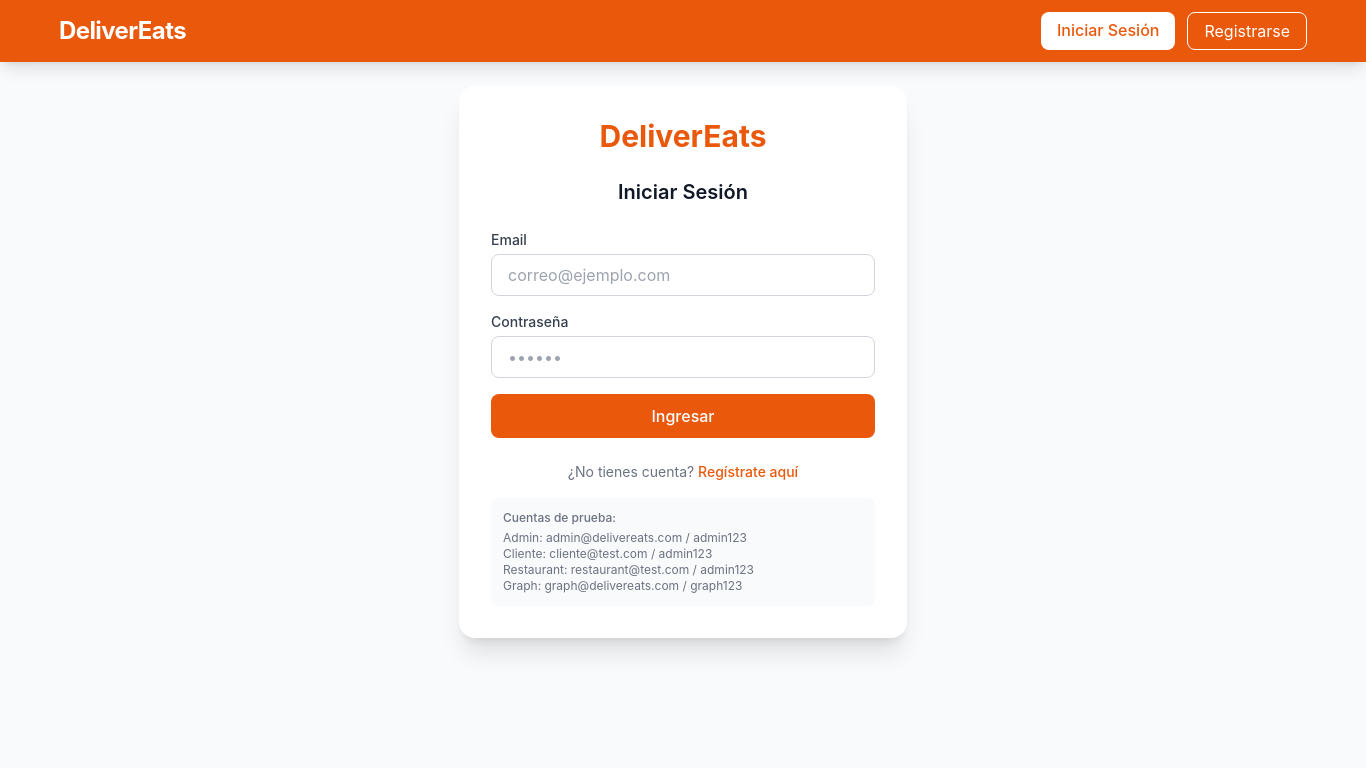
Test case: E2E UI - Autenticacion y roles › login cliente con inicio de compra
Type "cliente@test.com" into the field with placeholder "correo@ejemplo.com" at (683, 275), box x1=491 y1=254 x2=875 y2=296
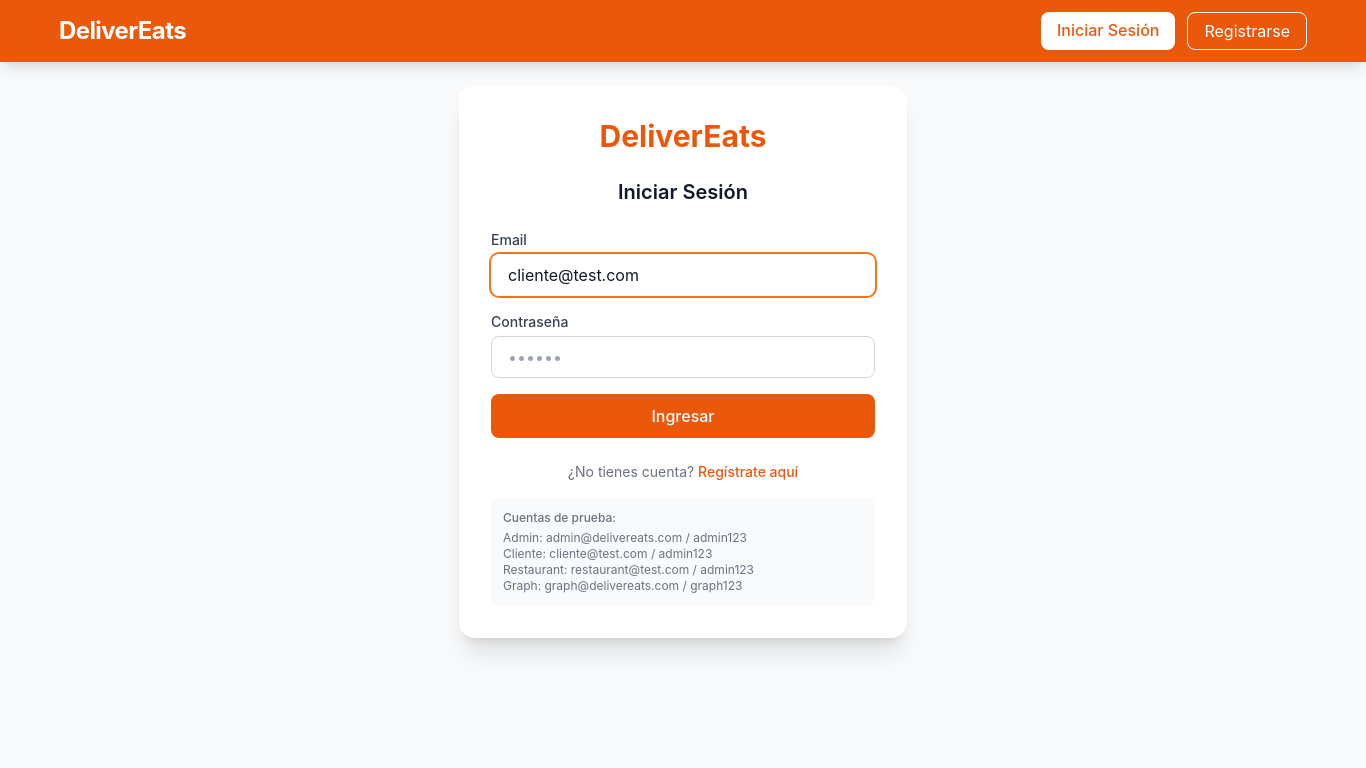
Type "admin123" into the password field with placeholder "••••••" at (683, 357), box x1=491 y1=336 x2=875 y2=378
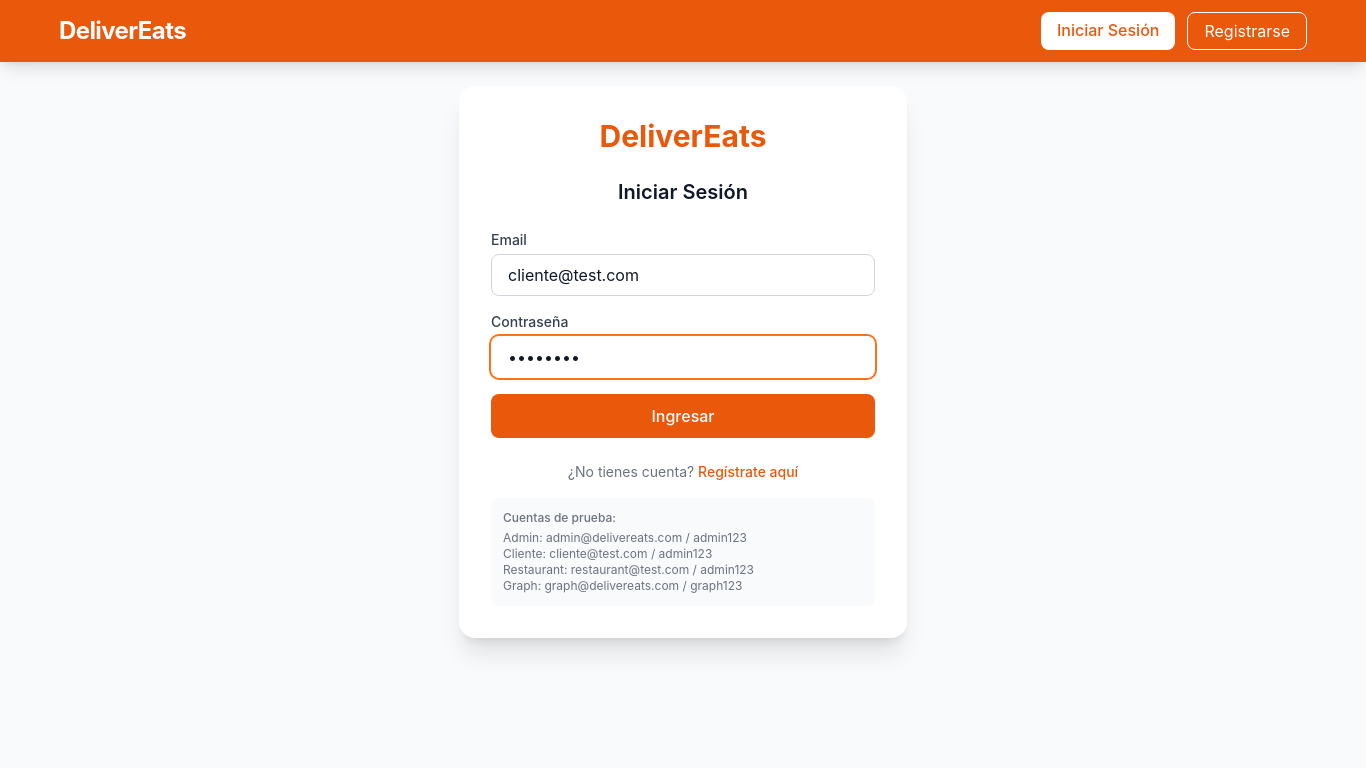
Click the button "Ingresar" at (683, 416), box x1=491 y1=394 x2=875 y2=438
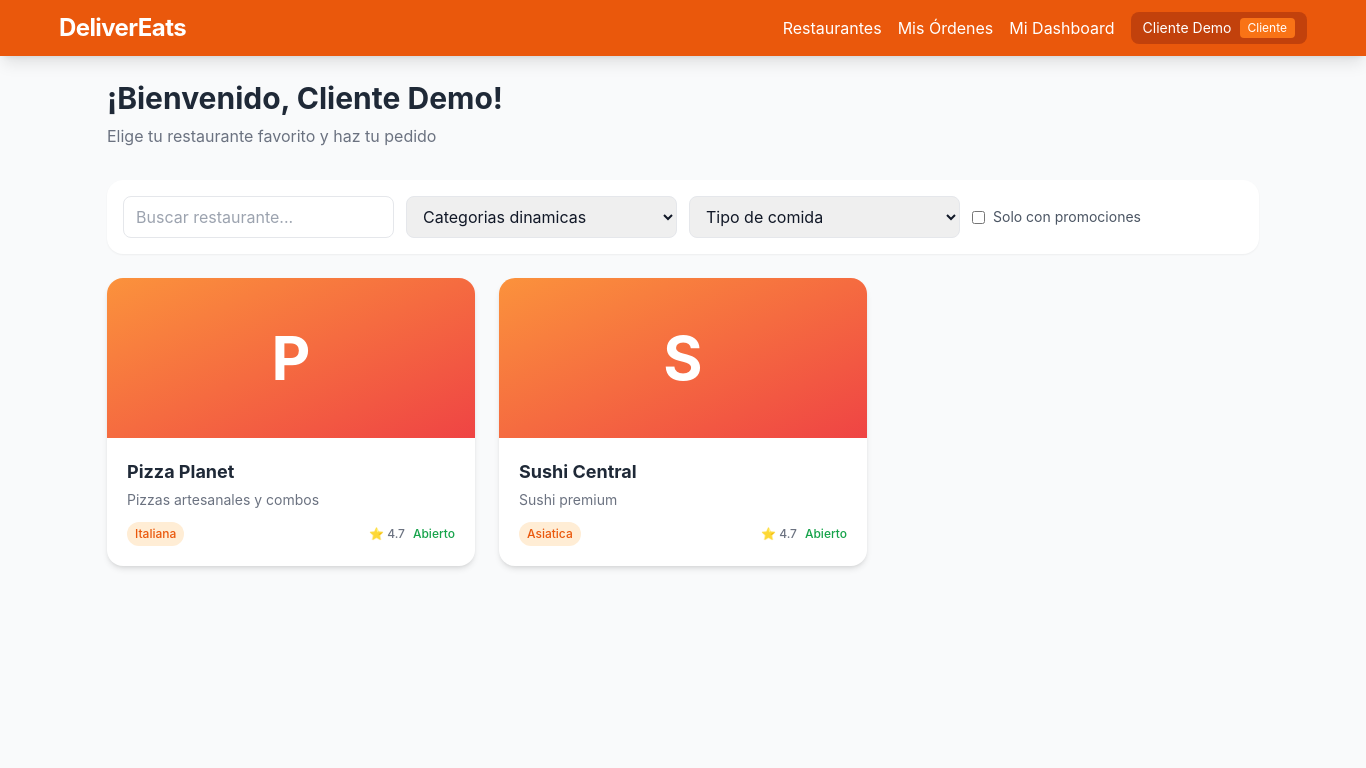
Result: the link "Restaurantes" is shown at x1=783 y1=16 x2=882 y2=40
Result: the link "Pizza Planet" is shown at x1=107 y1=278 x2=475 y2=566
